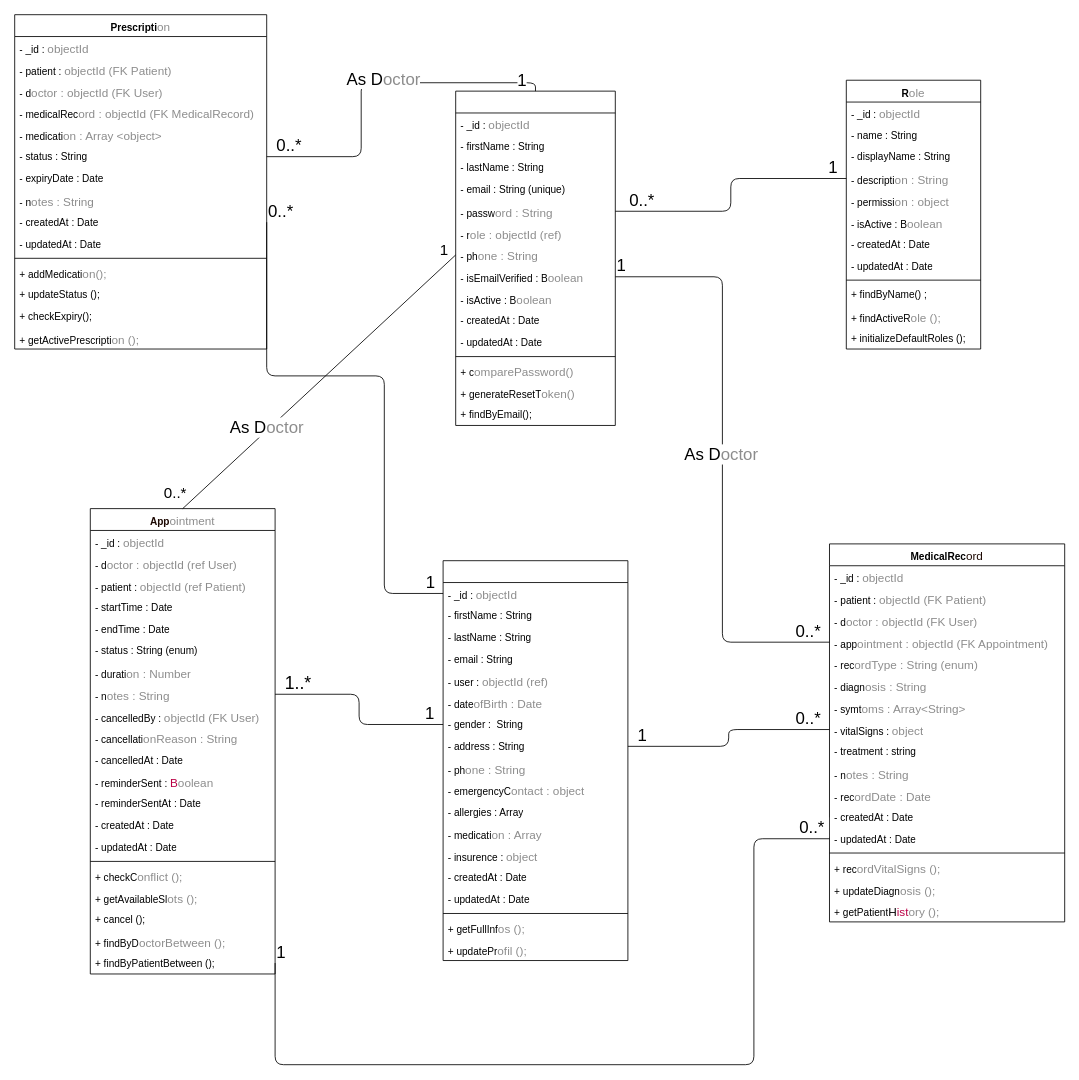
Some shapes in this 1079 by 1080 pixel diagram are drawn without their labels. The box of each missing label's shape, as (x1, y1, x2, y2) in pixels:
Patient: (442, 560, 628, 961)
User: (455, 90, 615, 425)
